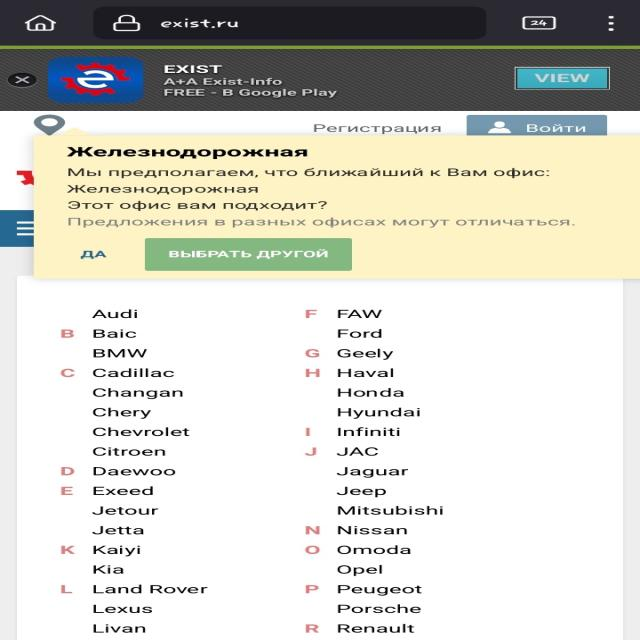button: (144, 239, 354, 270), (512, 66, 610, 90), (66, 241, 121, 267), (5, 74, 41, 88)
site: (35, 136, 640, 279), (0, 49, 640, 111)
